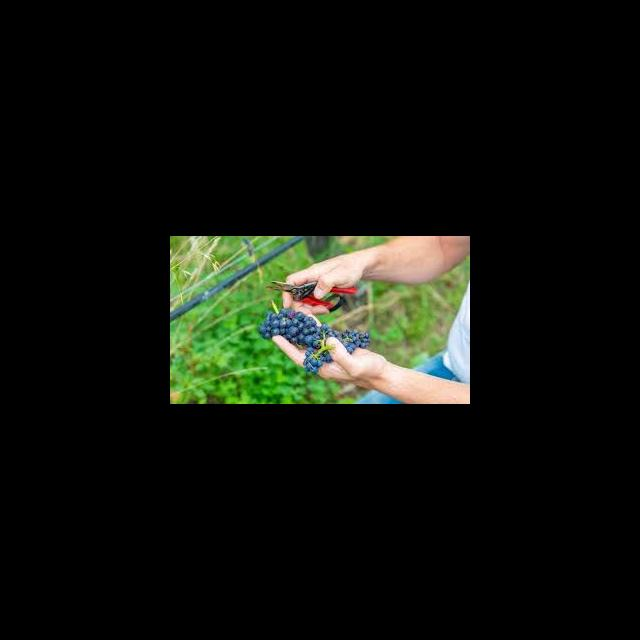grape: (258, 307, 370, 374)
